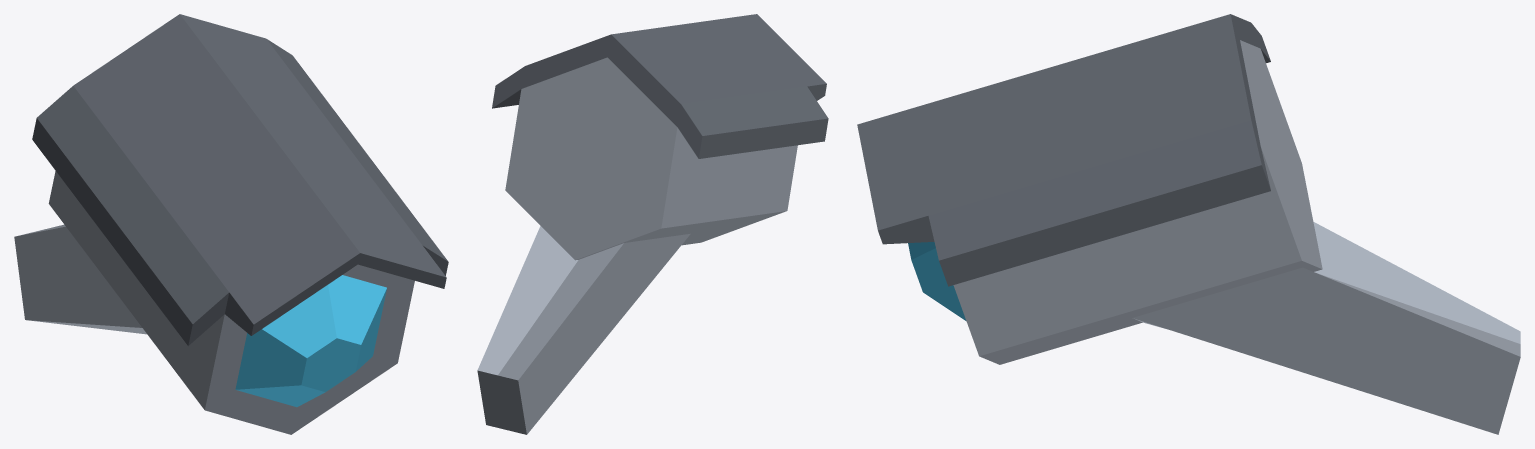
File: Camera.fbx
The picture shows the model from 3 angles, left to right: view 1: azimuth 30°, elevation 25°; view 2: azimuth 150°, elevation 25°; view 3: azimuth 270°, elevation 25°; orthographic projection. The views are drawn at different scales.
Visible parts, largest first — view 1: Camera; view 2: Camera; view 3: Camera.
Boxes of the visible parts, bbox=[...] form: Camera: bbox=[14, 14, 448, 434]; Camera: bbox=[477, 14, 828, 434]; Camera: bbox=[857, 14, 1520, 434].
Size of the model in its own units: 42.43 by 62.51 by 92.09.
